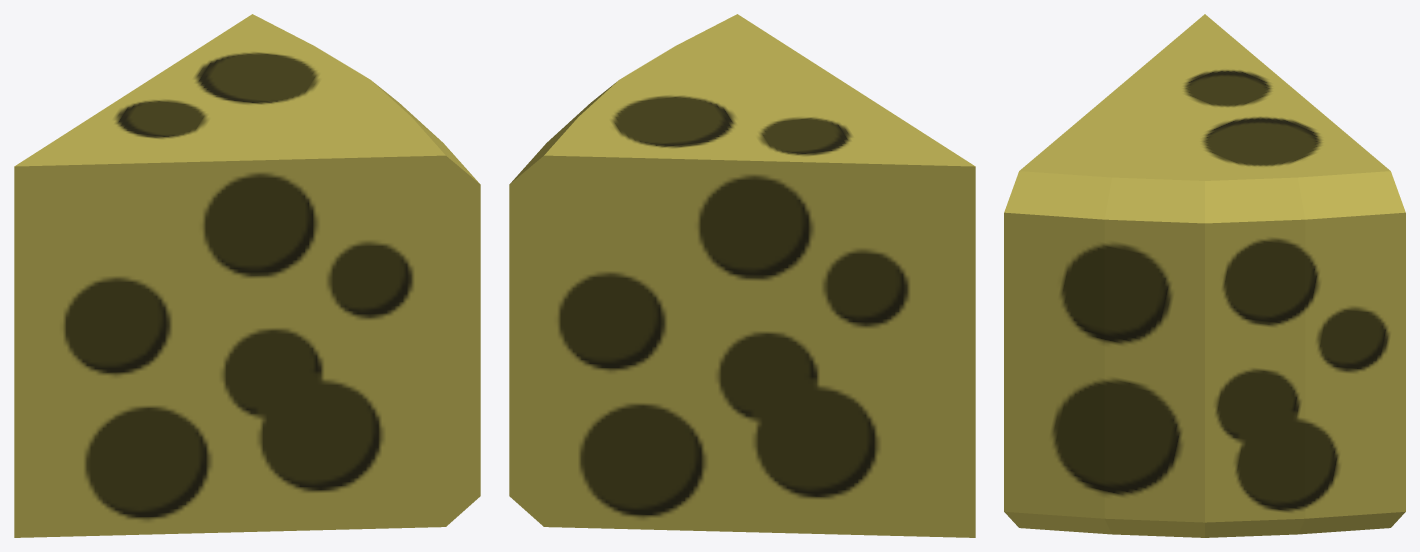
File: cheese.fbx
3 renders of one model, left to right at view 1: azimuth 30°, elevation 25°; view 2: azimuth 150°, elevation 25°; view 3: azimuth 270°, elevation 25°, orthographic. The views are drawn at different scales.
Parts seen in each view (by area): view 1: Cube; view 2: Cube; view 3: Cube.
Boxes of the visible parts, left/top/right/bottom form: Cube: left=14, top=14, right=480, bottom=537; Cube: left=509, top=14, right=975, bottom=537; Cube: left=1004, top=14, right=1405, bottom=537.
Bounding box in the file's own units: 213 × 196 × 200.
Materials: 1 (1 with a texture image).
